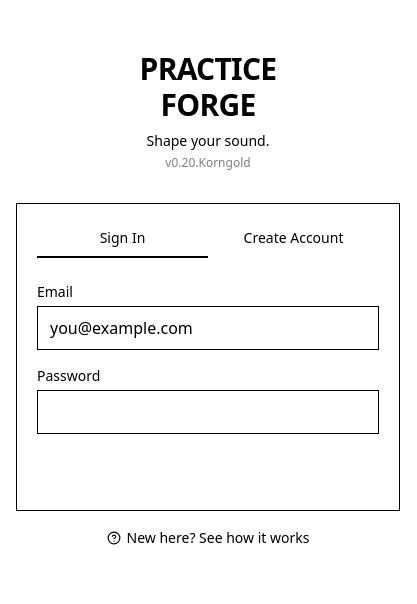
Test: LoginPage › shows display name field on register tab
# Click the tab button (first "Create Account" text, which is the tab)
Click the button "Create Account" at x=294, y=239, box [208,220,379,258]
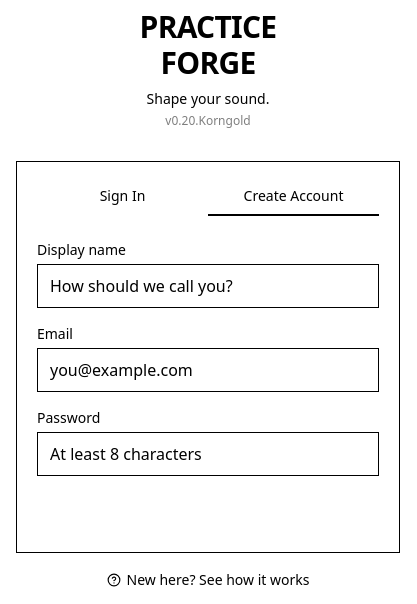
Check: the field labelled "Display name" is shown, box [37,264,379,308]
